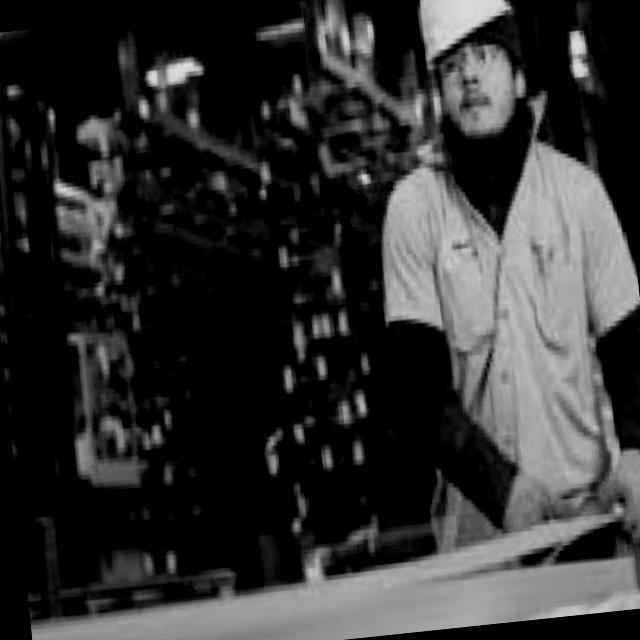goggles_on: (418, 32, 532, 93)
